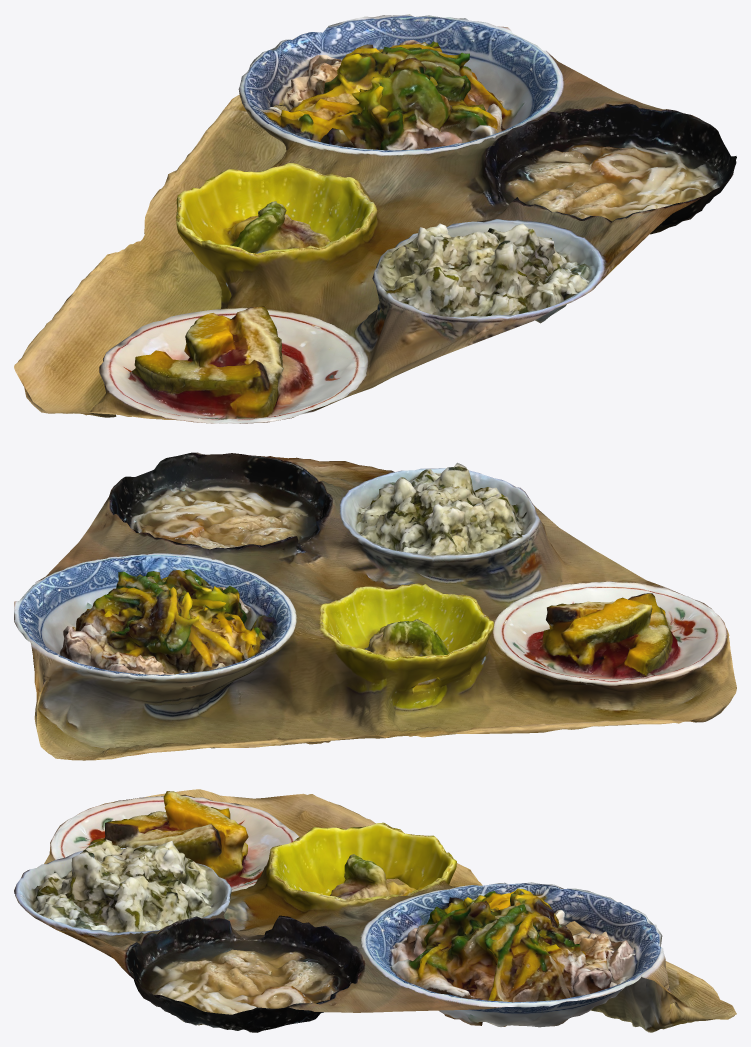
The model's file is summerschool-dinner0804.glb.
The picture shows the model from 3 angles, top to bottom: view 1: azimuth 30°, elevation 25°; view 2: azimuth 150°, elevation 25°; view 3: azimuth 270°, elevation 25°; orthographic projection. The views are drawn at different scales.
Parts seen in each view (by area): view 1: baked_mesh; view 2: baked_mesh; view 3: baked_mesh.
Part boxes in pixels (left/top/right/bottom): baked_mesh: left=14, top=14, right=736, bottom=423; baked_mesh: left=14, top=452, right=736, bottom=760; baked_mesh: left=14, top=789, right=736, bottom=1032.
Bounding box in the file's own units: 0.856 × 0.176 × 0.8341.
Materials: 1 (1 with a texture image).
